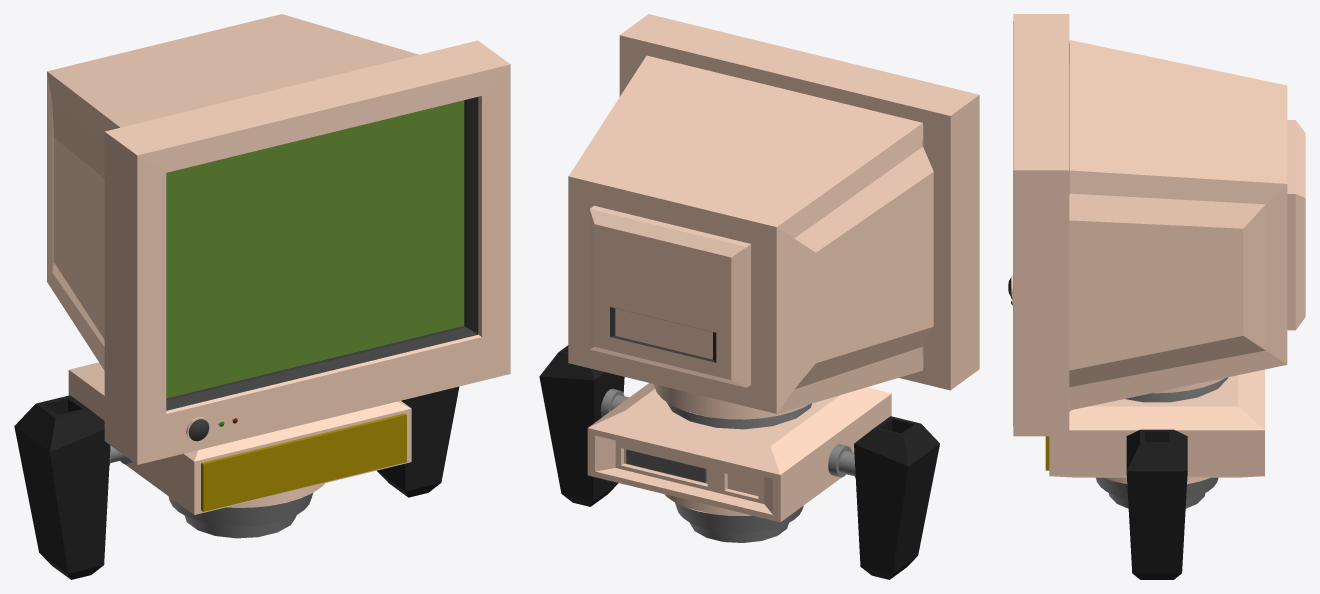
The model's file is Eden Bot BASE.fbx.
The picture shows the model from 3 angles, left to right: view 1: azimuth 30°, elevation 25°; view 2: azimuth 150°, elevation 25°; view 3: azimuth 270°, elevation 25°; orthographic projection. The views are drawn at different scales.
Visible parts, largest first — view 1: monitor front.001, monitor box.001, thrusters.001, label plate.001, monitor base.001; view 2: monitor box.001, monitor front.001, monitor base.001, thrusters.001, monitor neck.001; view 3: monitor box.001, monitor front.001, monitor base.001, thrusters.001, monitor neck.001.
Part boxes in pixels (left/top/right/bottom): monitor front.001: left=104, top=40, right=510, bottom=464; monitor box.001: left=47, top=14, right=418, bottom=370; thrusters.001: left=14, top=386, right=459, bottom=579; label plate.001: left=201, top=413, right=406, bottom=511; monitor base.001: left=68, top=362, right=411, bottom=514; monitor box.001: left=568, top=55, right=933, bottom=413; monitor front.001: left=619, top=14, right=979, bottom=390; monitor base.001: left=587, top=383, right=891, bottom=522; thrusters.001: left=539, top=345, right=939, bottom=579; monitor neck.001: left=654, top=384, right=811, bottom=429; monitor box.001: left=1069, top=40, right=1305, bottom=410; monitor front.001: left=1013, top=14, right=1069, bottom=436; monitor base.001: left=1049, top=369, right=1264, bottom=477; thrusters.001: left=1096, top=429, right=1218, bottom=579; monitor neck.001: left=1125, top=377, right=1228, bottom=402.
Size of the model in its own units: 70.24 by 77.49 by 50.64.
4 materials, 4 textured.
